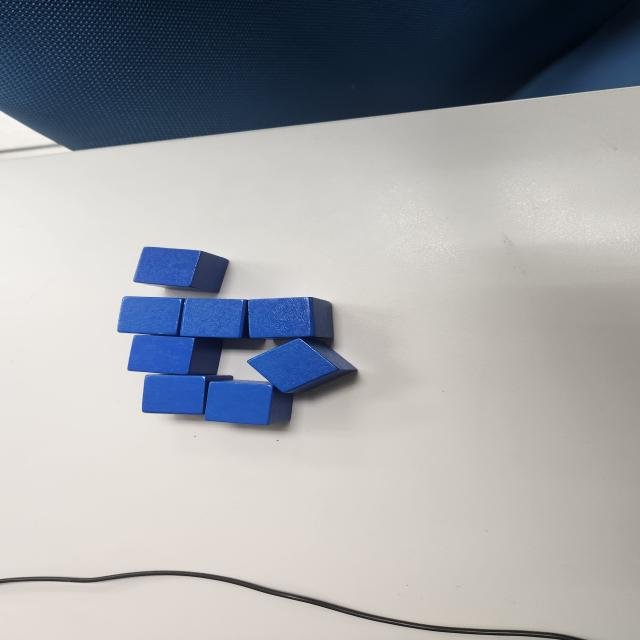blue: (245, 337, 358, 394), (132, 247, 230, 293), (202, 377, 294, 426), (126, 334, 224, 376), (140, 374, 234, 415), (246, 297, 334, 339), (172, 297, 252, 339), (116, 296, 200, 335)
